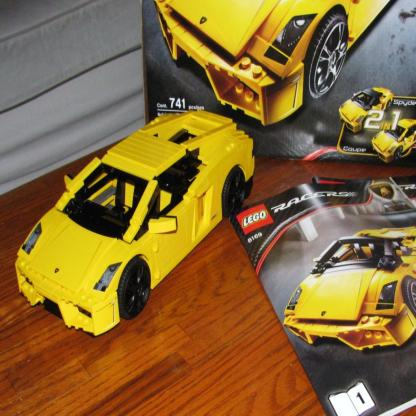Car: (17, 108, 254, 338), (155, 1, 392, 129), (285, 229, 416, 349), (340, 89, 394, 135), (373, 120, 416, 166)
